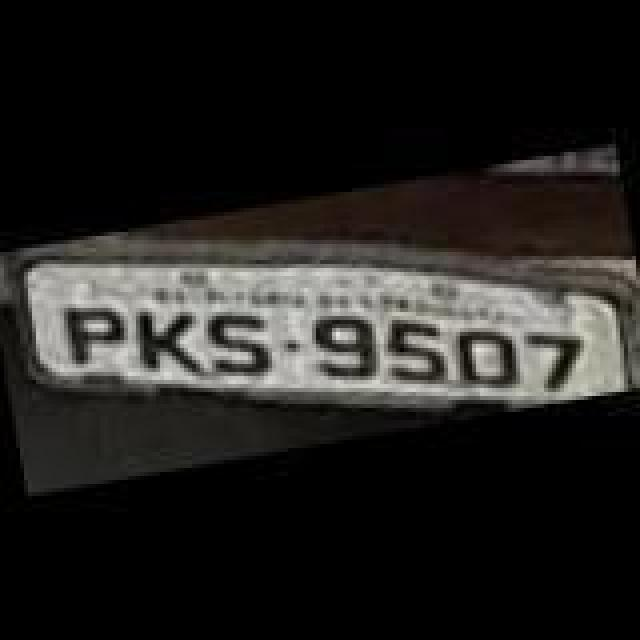5: (378, 304, 454, 392)
7: (520, 316, 592, 396)
9: (302, 302, 378, 386)
K: (132, 294, 204, 378)
O: (450, 318, 526, 402)
P: (50, 294, 126, 370)
S: (198, 296, 282, 384)
